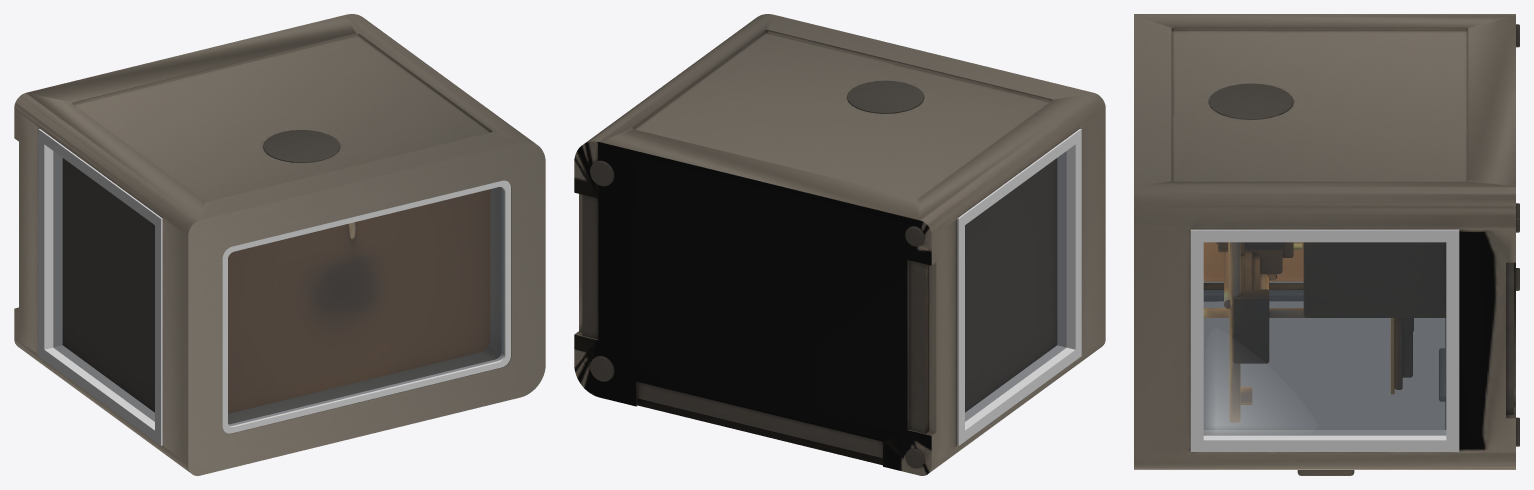
File: deltrol_p2s_source_geometry_pivot_v5.glb
3 views of the same model, side by side, from view 1: azimuth 30°, elevation 25°; view 2: azimuth 150°, elevation 25°; view 3: azimuth 270°, elevation 25° (orthographic). The views are drawn at different scales.
Visible parts, largest first — view 1: unibody_shell, top_roof_glass, interior_ceiling_liner, left_glass_window, interior_left_back_baffle, left_window_gasket, top_rim_outer, rear_exhaust_shroud; view 2: unibody_shell, left_glass_window, interior_left_back_baffle, left_window_gasket, chassis_recessed_plinth, rear_exhaust_shroud; view 3: unibody_shell, right_glass_window, front_glass_door, right_window_gasket, interior_right_lower_shroud, x_slider_right, rear_exhaust_shroud, right_glass_sheen, y_guide_right, interior_left_back_baffle, chassis_recessed_plinth, toolhead_chassis (+5 smaller).
Part boxes in pixels (x1,y1,x2,y2): unibody_shell: (14,14,545,475); top_roof_glass: (228,187,503,425); interior_ceiling_liner: (228,189,490,413); left_glass_window: (53,151,154,421); interior_left_back_baffle: (62,158,154,412); left_window_gasket: (38,129,162,445); top_rim_outer: (222,180,510,433); rear_exhaust_shroud: (263,130,340,162); unibody_shell: (574,14,1105,475); left_glass_window: (965,151,1066,421); interior_left_back_baffle: (965,158,1057,412); left_window_gasket: (957,129,1081,445); chassis_recessed_plinth: (582,194,928,458); rear_exhaust_shroud: (847,80,924,113); unibody_shell: (1134,14,1515,469); right_glass_window: (1203,242,1446,435); front_glass_door: (1204,297,1444,429); right_window_gasket: (1190,229,1459,451); interior_right_lower_shroud: (1303,242,1446,317); x_slider_right: (1233,289,1269,363); rear_exhaust_shroud: (1209,83,1293,119); right_glass_sheen: (1207,372,1271,432); y_guide_right: (1229,242,1240,422); interior_left_back_baffle: (1203,242,1303,281); chassis_recessed_plinth: (1506,262,1513,414); toolhead_chassis: (1240,242,1282,273).
Bounding box in the file's own units: 0.452 × 0.3213 × 0.382.
Materials: 9 (4 with a texture image).
